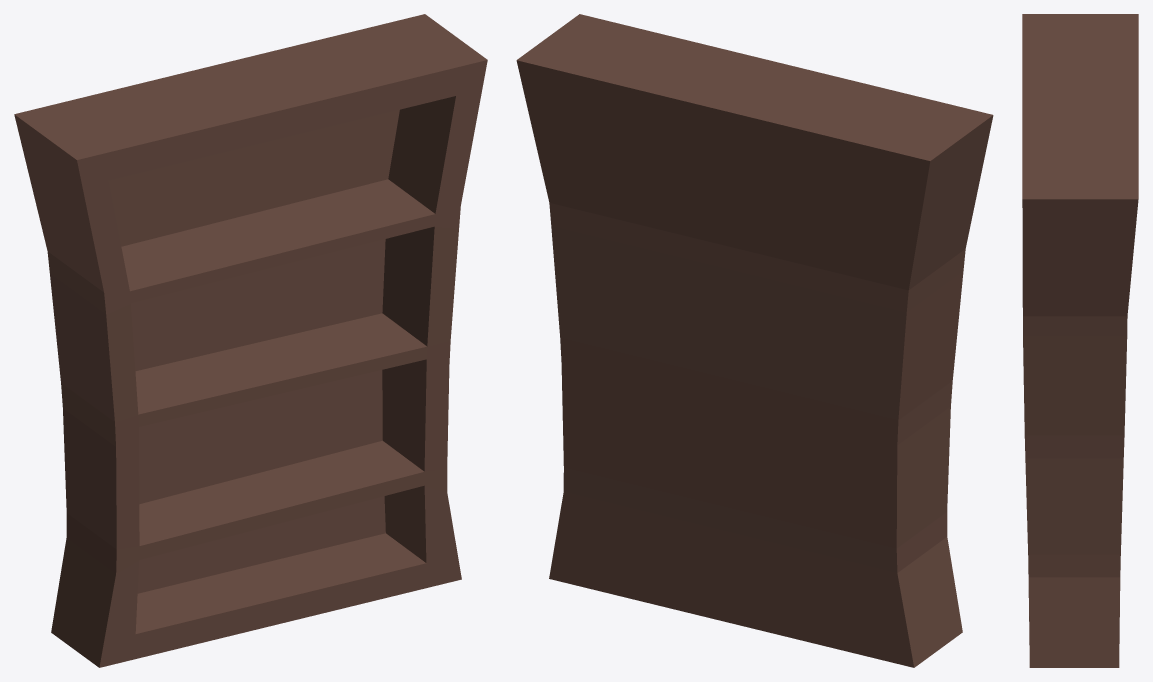
File: Props.fbx_Window.fbx_Bookshelf.fbx
3 views of the same model, side by side, from view 1: azimuth 30°, elevation 25°; view 2: azimuth 150°, elevation 25°; view 3: azimuth 270°, elevation 25° (orthographic). The views are drawn at different scales.
Visible parts, largest first — view 1: Cube; view 2: Cube; view 3: Cube.
Boxes of the visible parts, x1,y1,x2,y2 form: Cube: (14, 14, 487, 667); Cube: (516, 14, 993, 667); Cube: (1022, 14, 1138, 667).
Size of the model in its own units: 2.35 by 2.83 by 0.6224.
